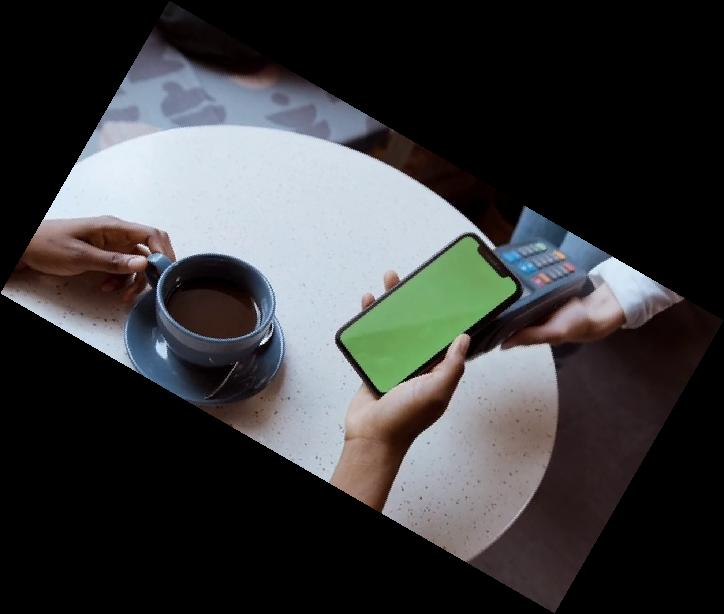phone: (331, 226, 526, 402)
